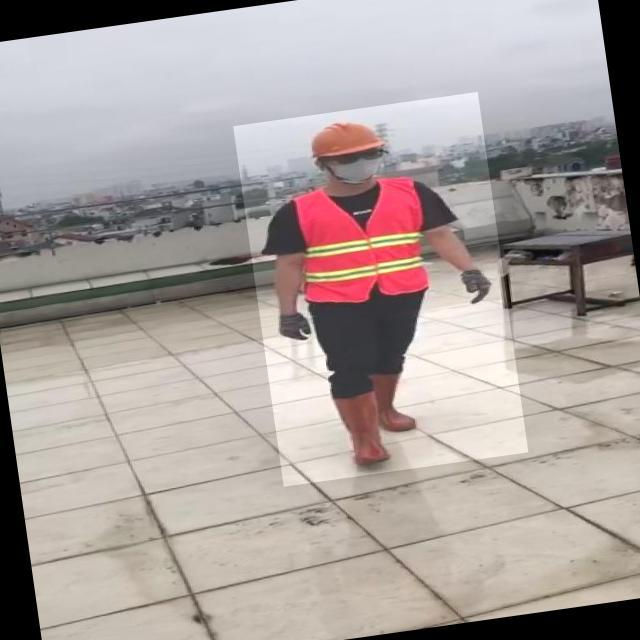Helmet: (304, 112, 392, 162)
Human: (234, 92, 529, 487)
Safety Boot: (329, 391, 395, 470), (368, 370, 422, 436)
Safety Vest: (291, 171, 436, 308)
